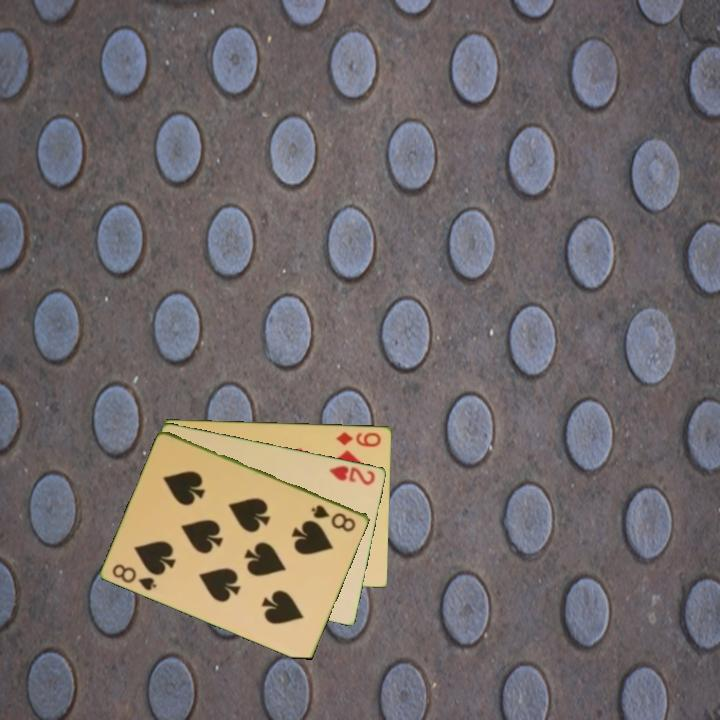2h: (326, 462, 378, 488)
8s: (308, 501, 359, 535), (109, 560, 160, 594)
9d: (333, 428, 384, 449)
